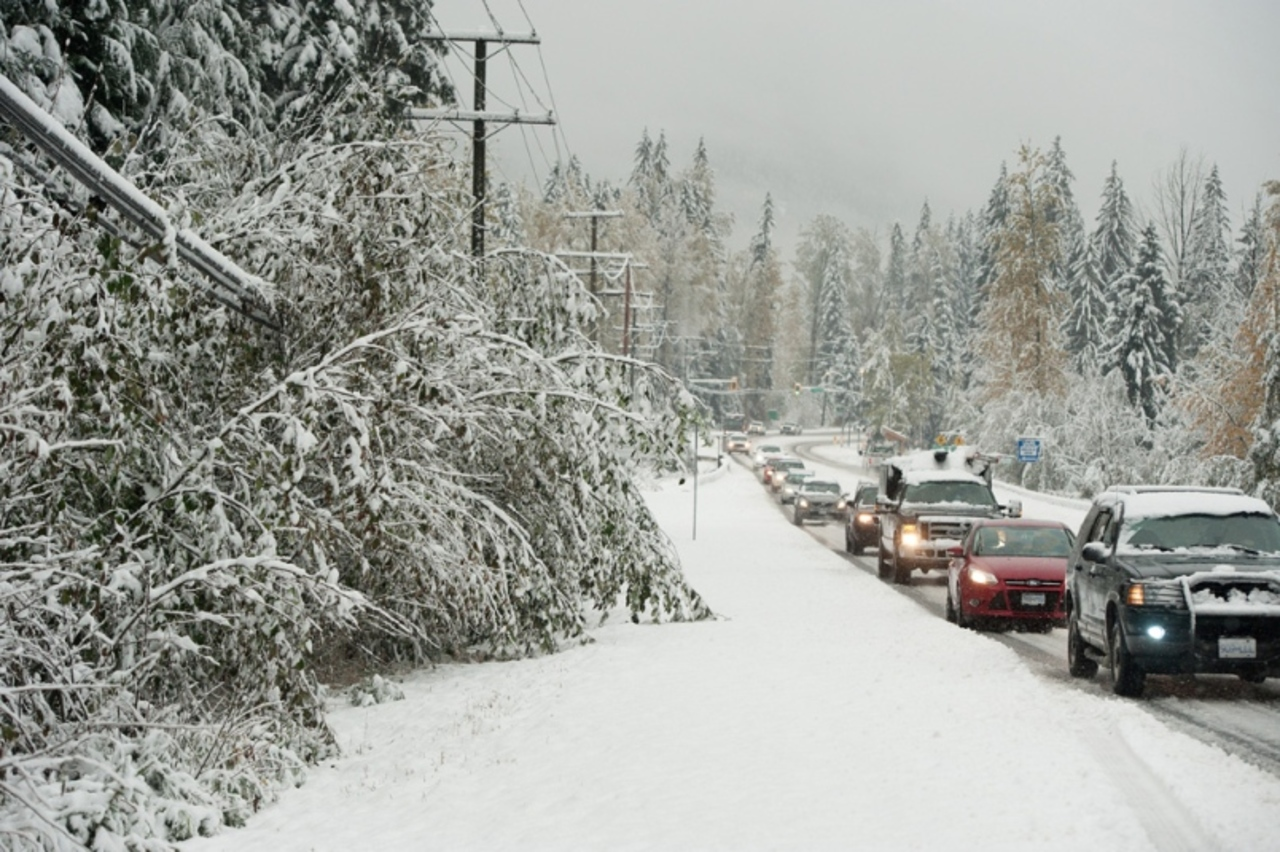car: (1056, 482, 1279, 696), (874, 467, 1011, 587), (945, 514, 1080, 632), (845, 481, 882, 553), (790, 480, 842, 527), (779, 471, 808, 501), (772, 457, 798, 484), (755, 447, 778, 472), (727, 430, 752, 453)
